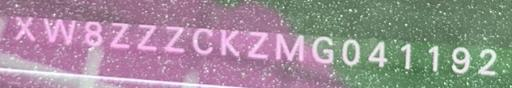letter: (272, 31, 306, 63), (41, 16, 77, 45), (308, 34, 336, 64), (162, 23, 188, 55), (246, 28, 270, 62), (190, 24, 216, 54), (135, 22, 159, 54), (219, 27, 243, 59), (11, 13, 37, 42), (108, 20, 132, 50), (365, 38, 389, 68), (448, 45, 472, 74), (475, 47, 499, 76), (341, 36, 363, 66), (424, 43, 444, 75), (82, 18, 104, 46), (399, 42, 415, 70)
